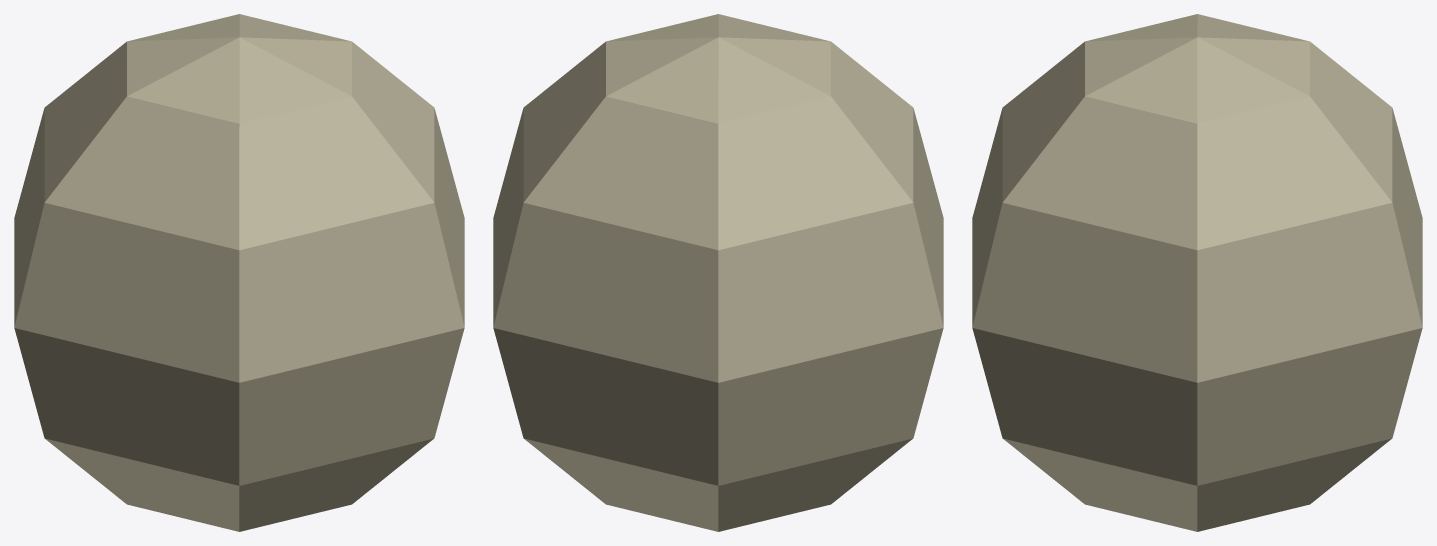
The model's file is ProjectileRock.fbx.
3 renders of one model, left to right at view 1: azimuth 30°, elevation 25°; view 2: azimuth 150°, elevation 25°; view 3: azimuth 270°, elevation 25°, orthographic.
Parts seen in each view (by area): view 1: pSphere1; view 2: pSphere1; view 3: pSphere1.
Boxes of the visible parts, box(x1,y1,x2,y2) form: pSphere1: box(14, 14, 464, 531); pSphere1: box(493, 14, 943, 531); pSphere1: box(972, 14, 1422, 531).
Bounding box in the file's own units: 19.38 × 19.38 × 16.78.
